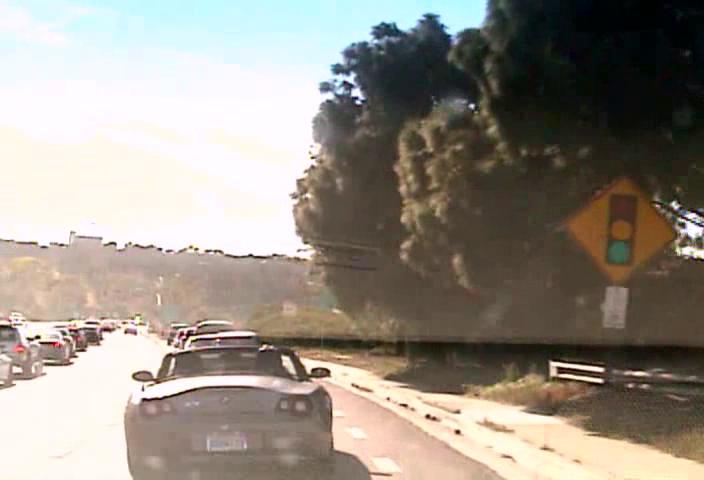signalAhead: (562, 174, 679, 284)
